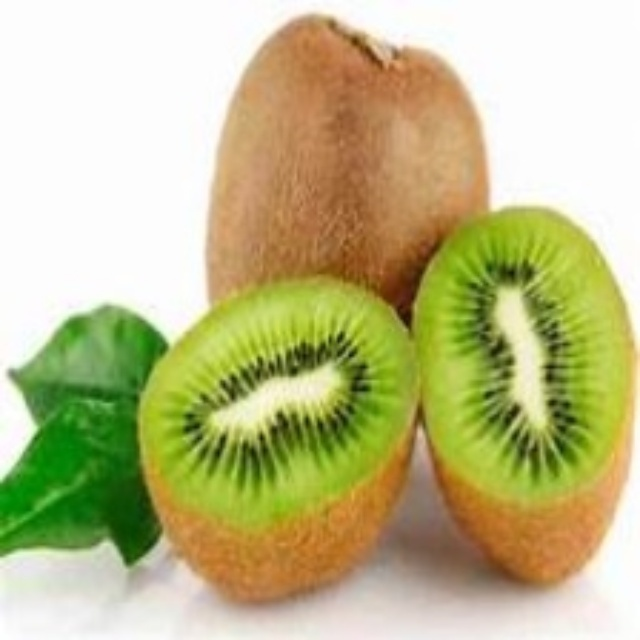kiwi: (122, 281, 428, 612), (400, 205, 635, 595), (218, 19, 486, 315)
